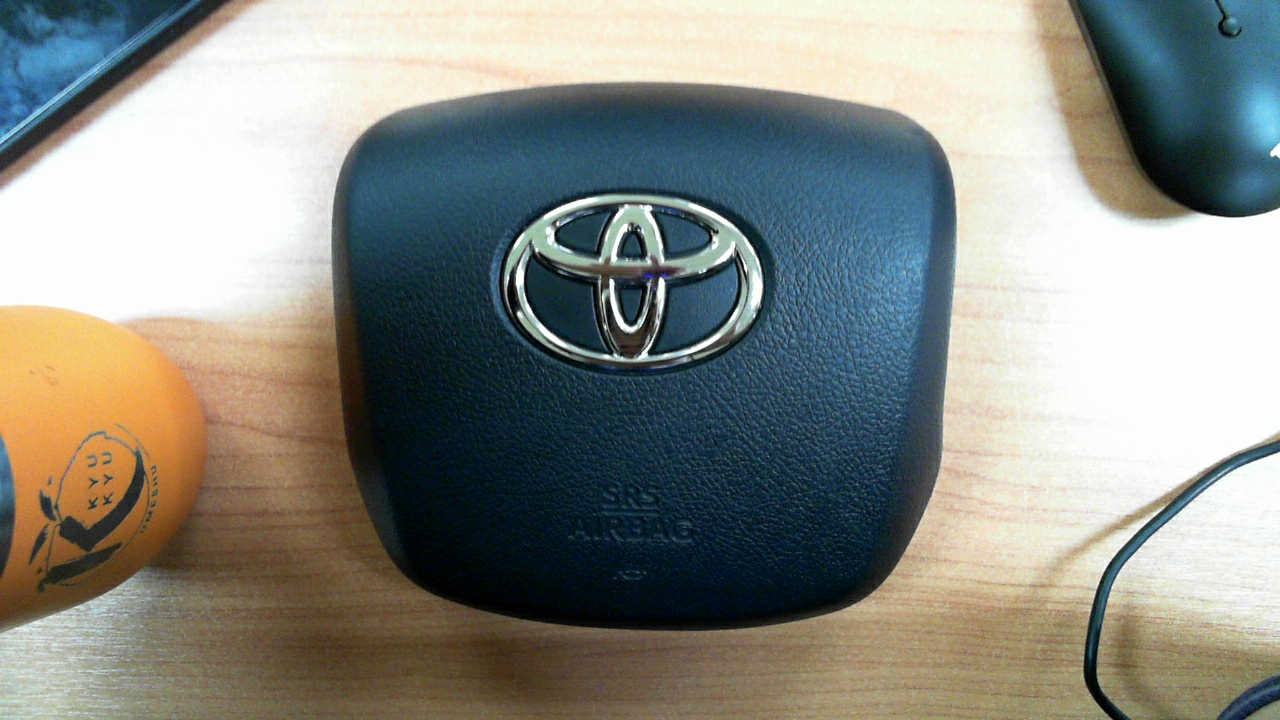Airbag: (314, 221, 952, 617)
